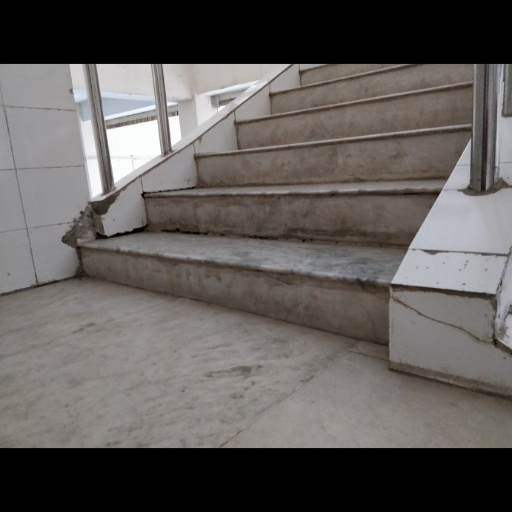Stairs: (80, 65, 471, 343)
